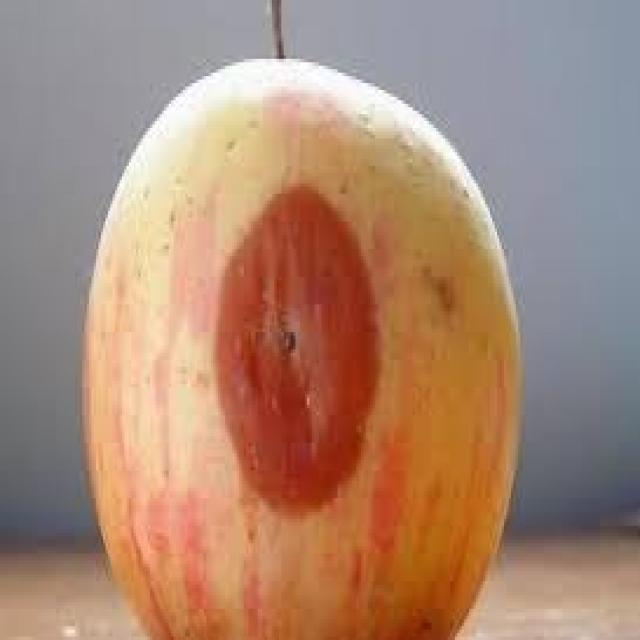organic waste: (78, 56, 520, 636)
